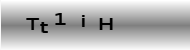1: (52, 11, 66, 26)
H: (98, 17, 114, 32)
T: (25, 17, 40, 31)
i: (80, 13, 86, 28)
t: (38, 21, 50, 34)
